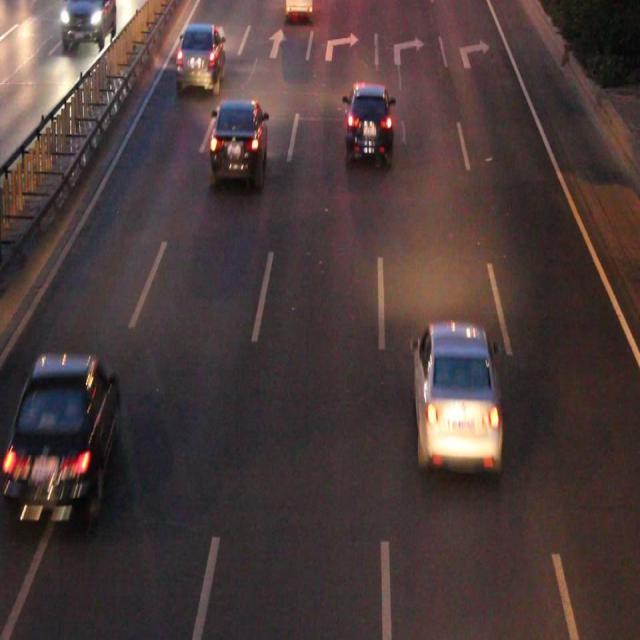car: (10, 356, 119, 523), (412, 324, 500, 469), (212, 100, 265, 176), (346, 85, 391, 158), (176, 26, 225, 89)
truck: (285, 1, 312, 19)
